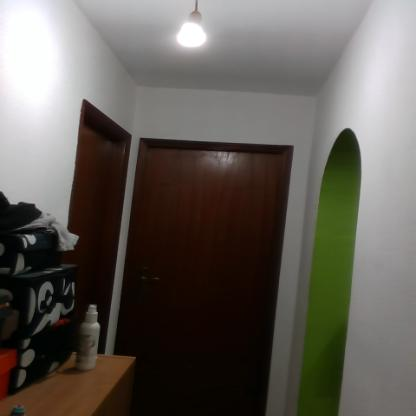closed: (123, 121, 303, 392), (72, 96, 127, 382)
